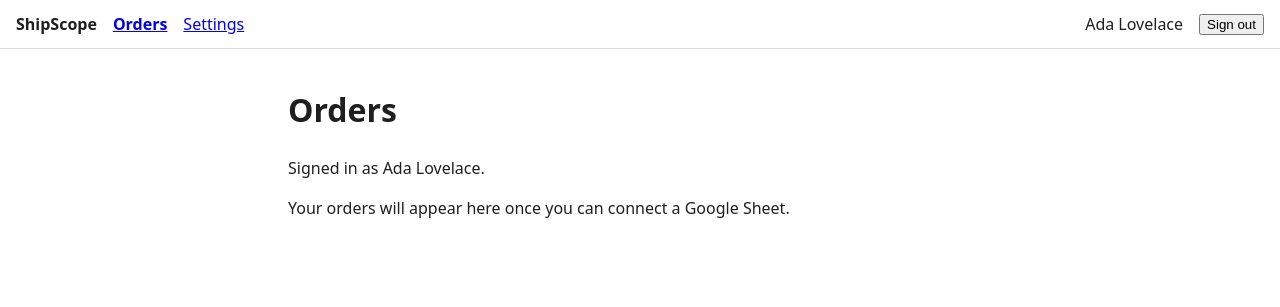
AppShell › stays put and says so when signing out fails
The width and height of the screenshot is (1280, 307).
Step 1. Click the button "Sign out" → [1232, 24], box left=1199, top=14, right=1264, bottom=34
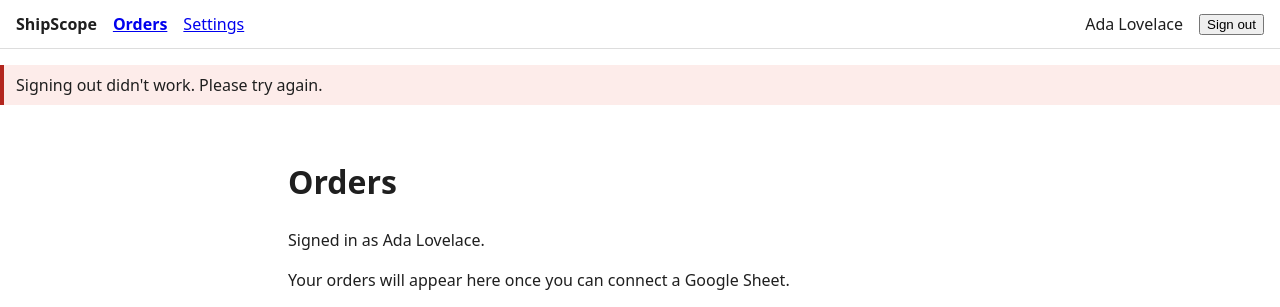
expect the message shows "Signing out didn't work.": met, box left=16, top=74, right=322, bottom=96
